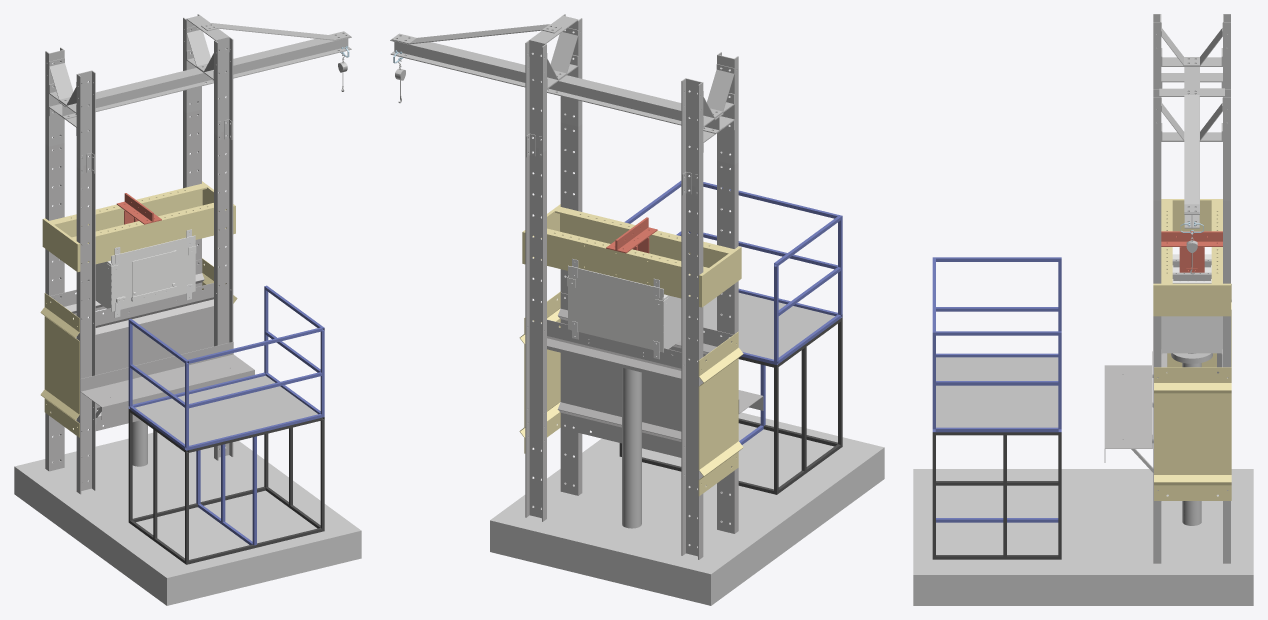
File: Protection_verin.glb
3 views of the same model, side by side, from view 1: azimuth 30°, elevation 25°; view 2: azimuth 150°, elevation 25°; view 3: azimuth 270°, elevation 25° (orthographic). The views are drawn at different scales.
Parts seen in each view (by area): view 1: Protection_vérin; view 2: Protection_vérin; view 3: Protection_vérin.
Boxes of the visible parts, bbox=[...] form: Protection_vérin: bbox=[14, 14, 361, 605]; Protection_vérin: bbox=[390, 14, 884, 605]; Protection_vérin: bbox=[913, 14, 1253, 605].
Size of the model in its own units: 345 by 482 by 298.
